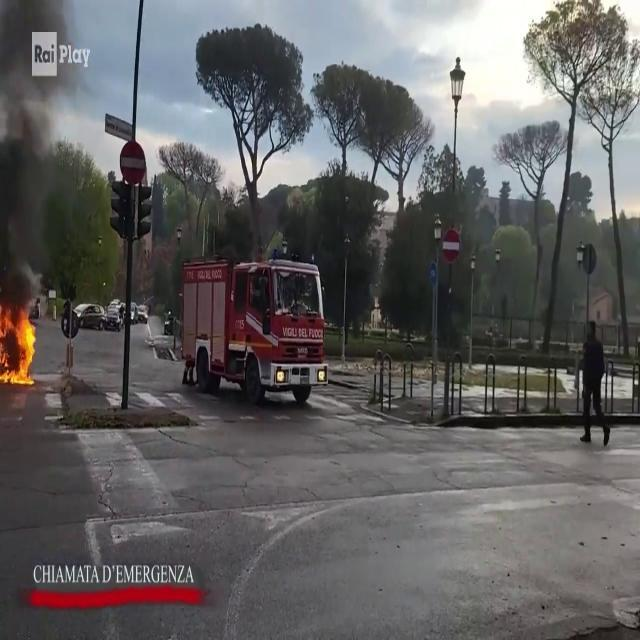Fire: (0, 301, 38, 387)
Smoke: (0, 0, 84, 297)
